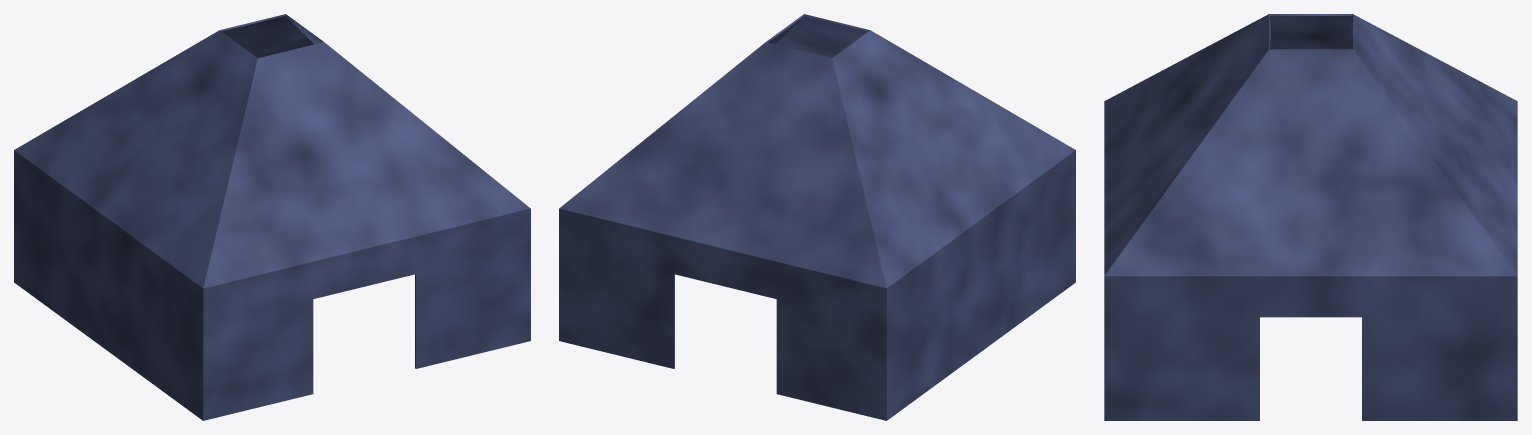
Rendered from spawn3.dae.
The picture shows the model from 3 angles, left to right: view 1: azimuth 30°, elevation 25°; view 2: azimuth 150°, elevation 25°; view 3: azimuth 270°, elevation 25°; orthographic projection. The views are drawn at different scales.
Visible parts, largest first — view 1: Cube_001; view 2: Cube_001; view 3: Cube_001.
Boxes of the visible parts, <box> form: Cube_001: <box>14,14,530,420</box>; Cube_001: <box>559,14,1075,420</box>; Cube_001: <box>1104,14,1517,420</box>.
Size of the model in its own units: 2 by 2 by 1.61.
1 material, 1 textured.
